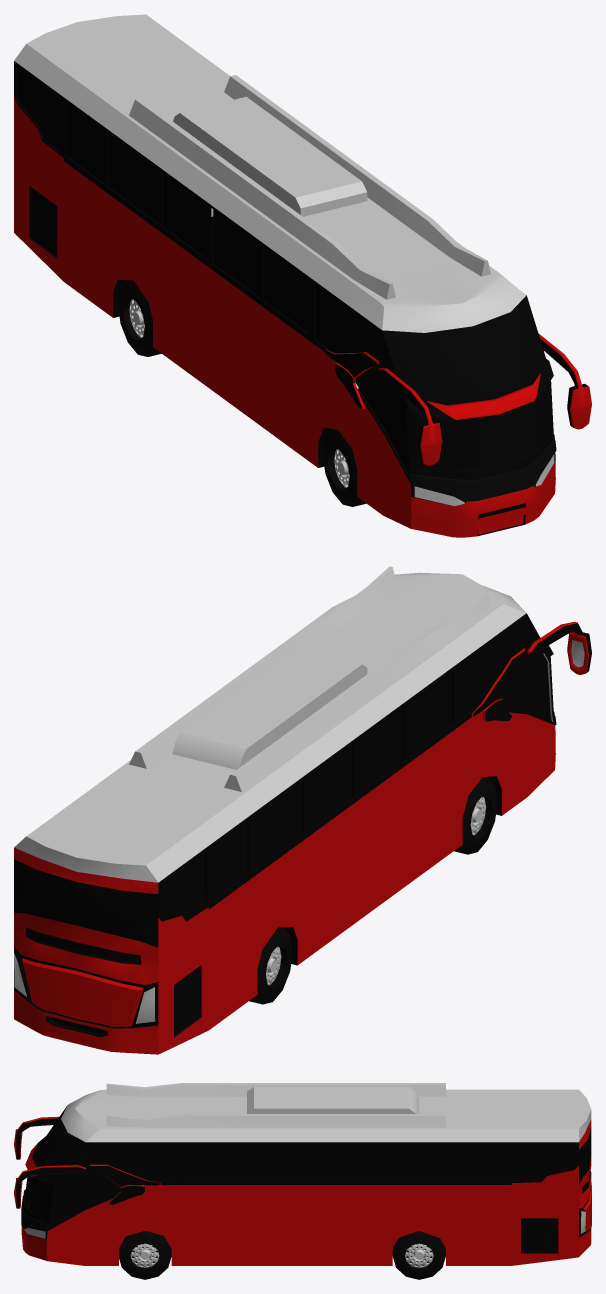
The model's file is bus.obj.
3 views of the same model, one above another, from view 1: azimuth 30°, elevation 25°; view 2: azimuth 150°, elevation 25°; view 3: azimuth 270°, elevation 25° (orthographic). The views are drawn at different scales.
Visible parts, largest first — view 1: body_bus_Cube; view 2: body_bus_Cube; view 3: body_bus_Cube.
Part boxes in pixels (<box>): body_bus_Cube: <box>14,14,591,537</box>; body_bus_Cube: <box>14,566,591,1054</box>; body_bus_Cube: <box>14,1083,591,1279</box>.
Bounding box in the file's own units: 3.66 × 4.87 × 15.95.
